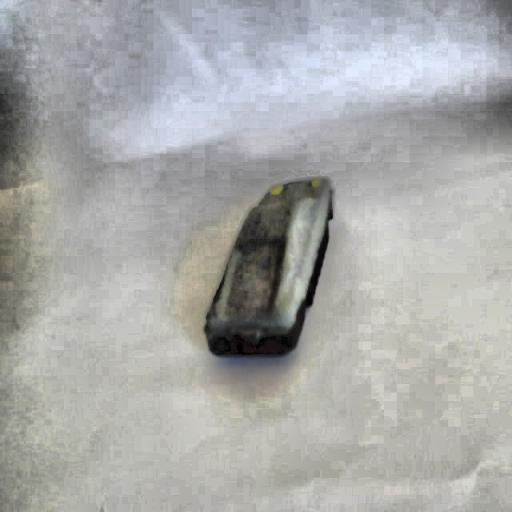normal_car: (200, 175, 334, 360)
